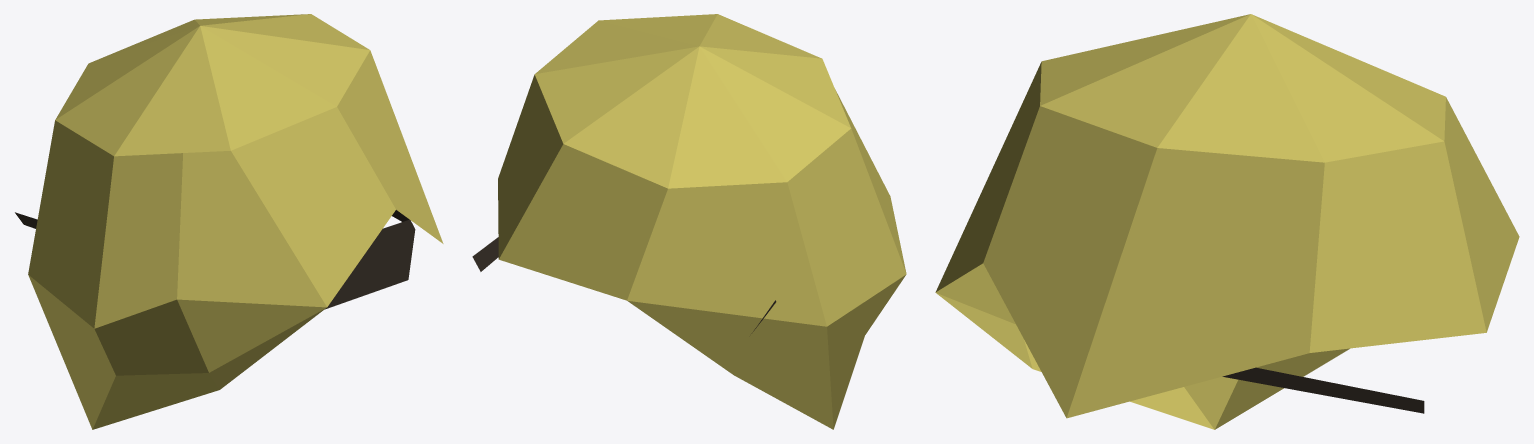
File: karen_prop.fbx
3 views of the same model, side by side, from view 1: azimuth 30°, elevation 25°; view 2: azimuth 150°, elevation 25°; view 3: azimuth 270°, elevation 25° (orthographic). The views are drawn at different scales.
Parts seen in each view (by area): view 1: karen prop; view 2: karen prop; view 3: karen prop.
Part boxes in pixels (<box>): karen prop: <box>15,14,443,429</box>; karen prop: <box>472,14,906,429</box>; karen prop: <box>935,14,1519,429</box>.
Size of the model in its own units: 69.43 by 71.75 by 76.53.
2 materials, 2 textured.
